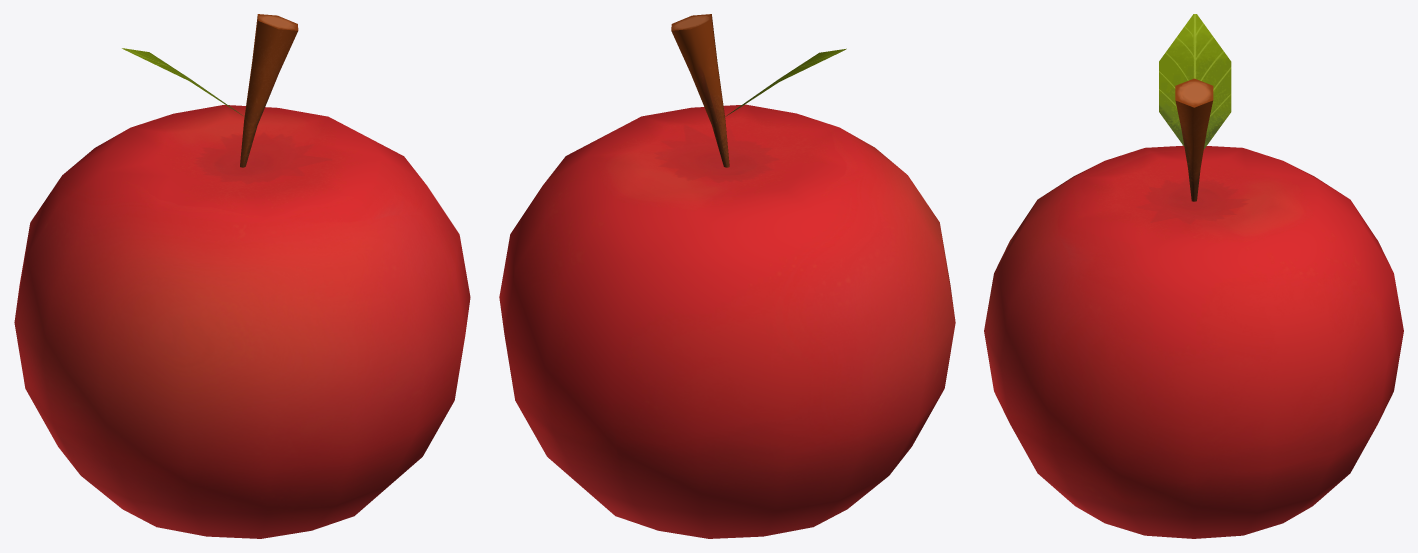
The model's file is Apple.FBX.
3 renders of one model, left to right at view 1: azimuth 30°, elevation 25°; view 2: azimuth 150°, elevation 25°; view 3: azimuth 270°, elevation 25°, orthographic. The views are drawn at different scales.
Visible parts, largest first — view 1: polySurface47; view 2: polySurface47; view 3: polySurface47.
Part boxes in pixels (x1,y1,x2,y2): polySurface47: (14,14,470,538); polySurface47: (499,14,955,538); polySurface47: (984,14,1403,538).
Bounding box in the file's own units: 70.55 × 81.47 × 70.55.
1 material, 1 textured.
